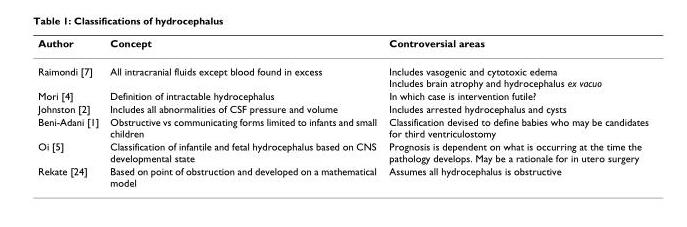table: (37, 36, 648, 188)
table column: (103, 36, 382, 188), (382, 36, 648, 188), (37, 36, 103, 188)
table column header: (37, 36, 648, 56)
table row: (37, 56, 648, 89), (37, 114, 648, 139), (37, 139, 648, 164), (37, 164, 648, 188), (37, 36, 648, 56), (37, 101, 648, 114), (37, 89, 648, 101)
